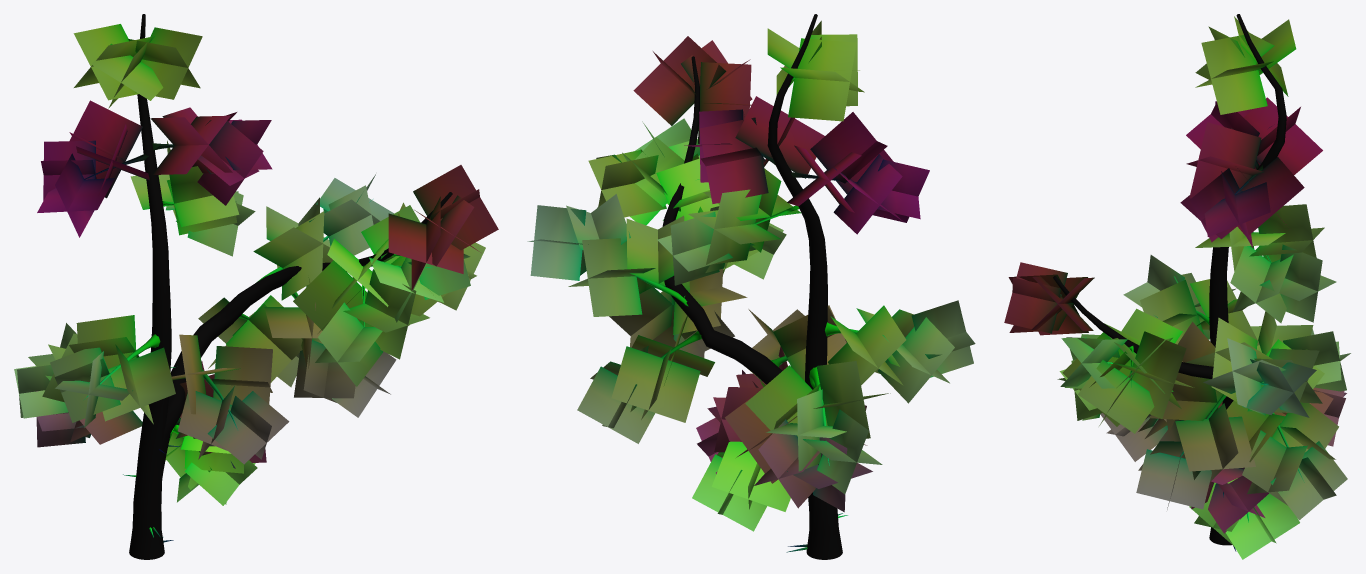
File: URP_P7_Tree_15_LOD_0.fbx
3 renders of one model, left to right at view 1: azimuth 30°, elevation 25°; view 2: azimuth 150°, elevation 25°; view 3: azimuth 270°, elevation 25°, orthographic. The views are drawn at different scales.
Parts seen in each view (by area): view 1: Tree_15_LOD_0; view 2: Tree_15_LOD_0; view 3: Tree_15_LOD_0.
Part boxes in pixels (bbox=[...]): Tree_15_LOD_0: bbox=[14, 14, 498, 559]; Tree_15_LOD_0: bbox=[527, 14, 975, 559]; Tree_15_LOD_0: bbox=[1004, 14, 1350, 559].
Bounding box in the file's own units: 390 × 493 × 296.
